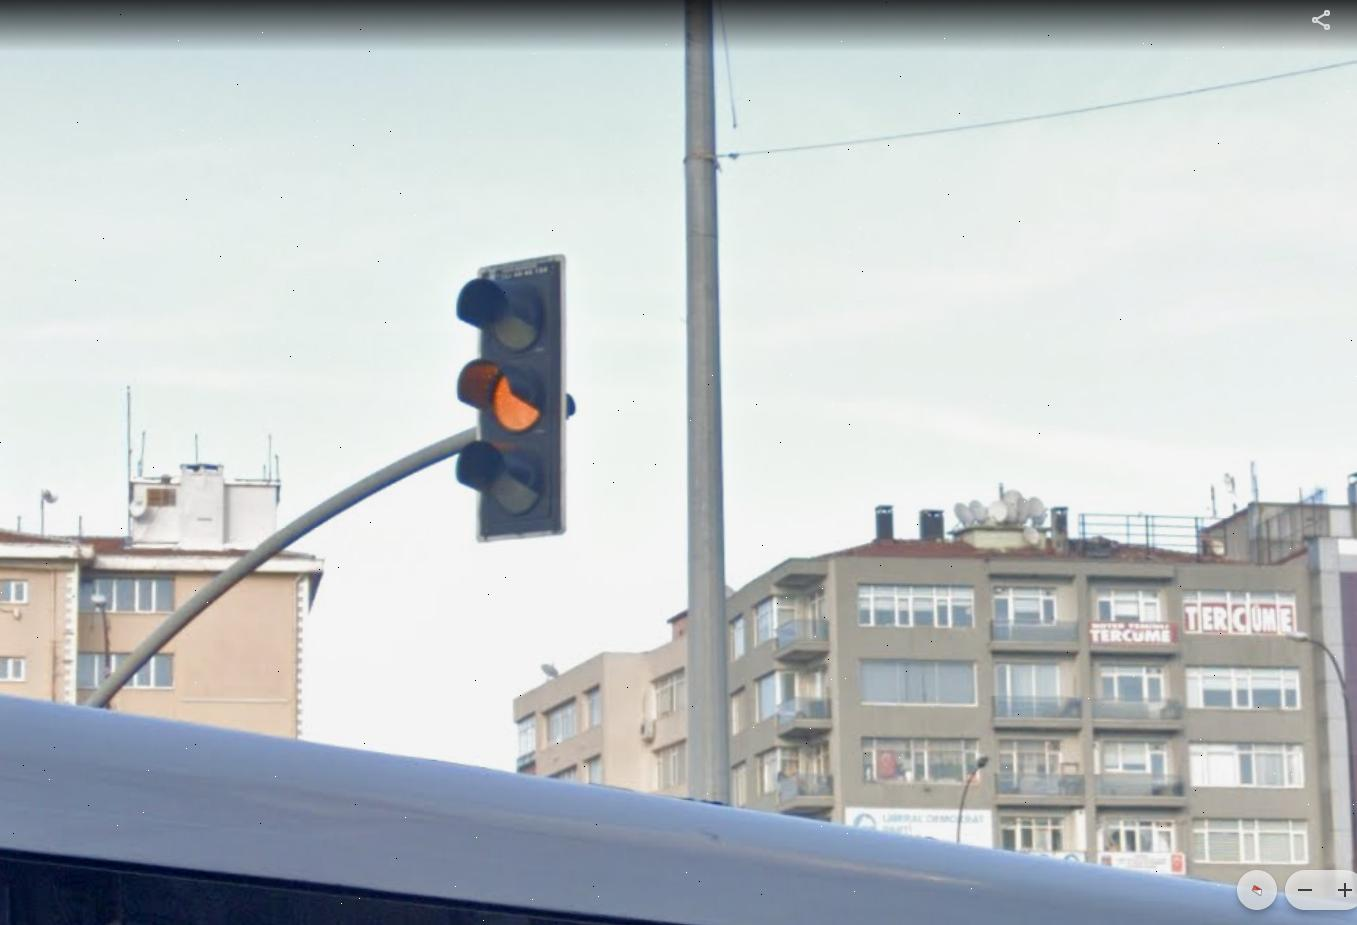yellowlight: (471, 269, 565, 511)
